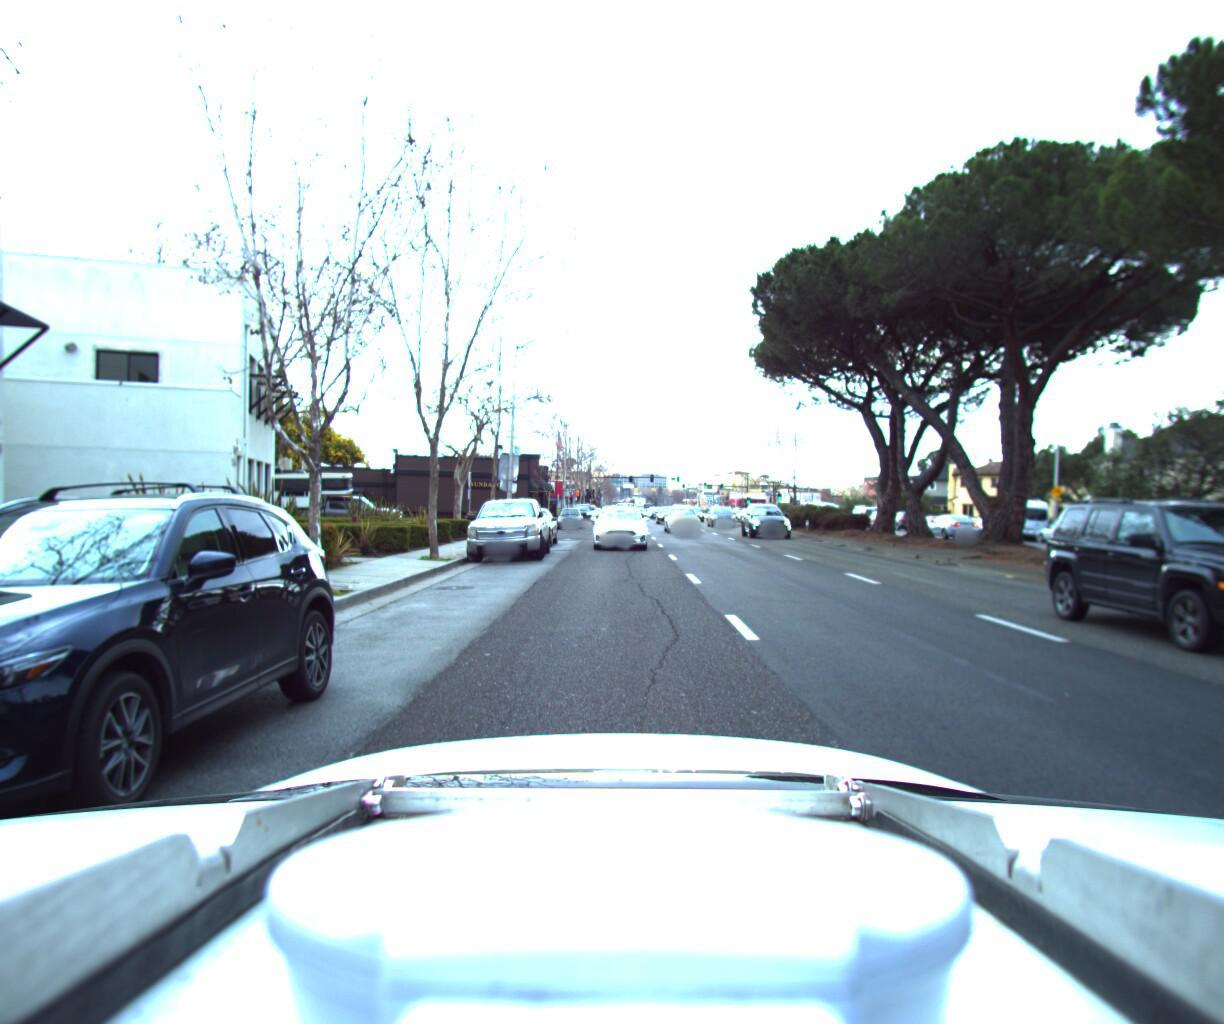car: (0, 444, 360, 940), (1076, 477, 1224, 697), (255, 460, 412, 532), (461, 488, 556, 560), (969, 488, 1054, 537), (499, 497, 562, 542), (590, 496, 646, 546), (741, 494, 801, 534), (1030, 510, 1108, 540), (917, 503, 979, 533), (662, 496, 703, 530), (705, 493, 736, 520), (607, 492, 637, 518), (567, 493, 595, 519), (556, 498, 584, 522)
